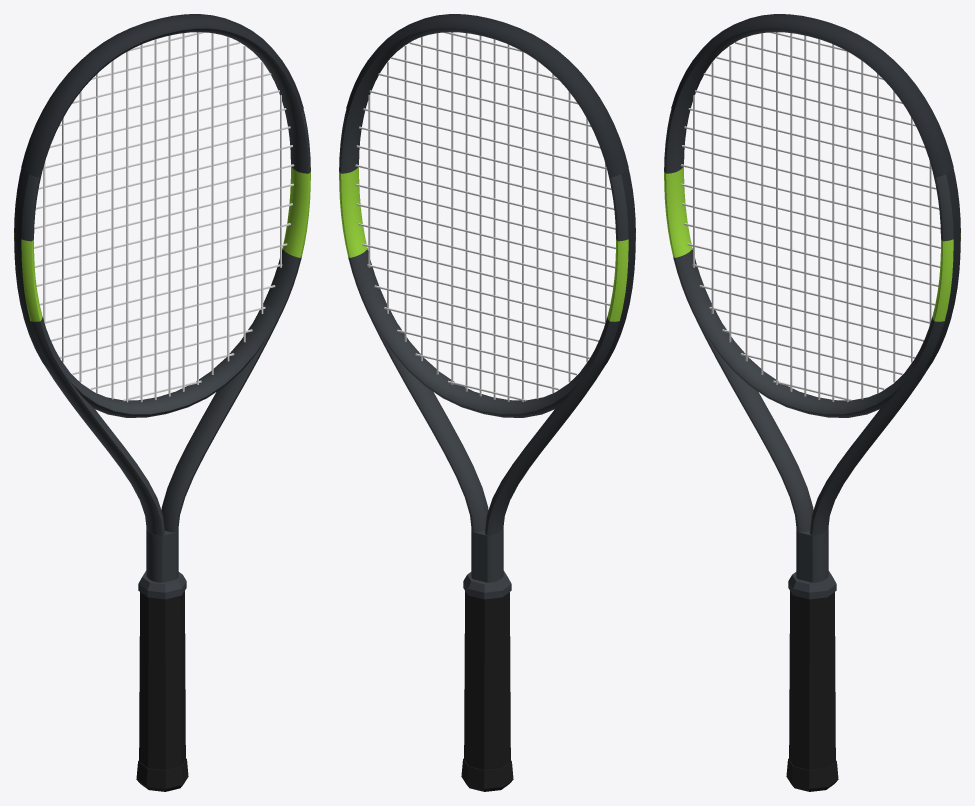
The model's file is babolat-boost-aero-2026.glb.
The picture shows the model from 3 angles, left to right: view 1: azimuth 30°, elevation 25°; view 2: azimuth 150°, elevation 25°; view 3: azimuth 330°, elevation 25°; orthographic projection.
Visible parts, largest first — view 1: frame, strings_mains, strings_crosses, grip, bumper, grommets, butt_cap, collar; view 2: frame, strings_mains, strings_crosses, grip, bumper, grommets, butt_cap, collar; view 3: frame, strings_mains, strings_crosses, grip, bumper, grommets, butt_cap, collar.
Boxes of the visible parts, left/top/right/bottom form: frame: left=14, top=28, right=310, bottom=582; strings_mains: left=43, top=32, right=281, bottom=402; strings_crosses: left=34, top=32, right=294, bottom=401; grip: left=139, top=591, right=185, bottom=770; bumper: left=21, top=14, right=303, bottom=177; grommets: left=14, top=169, right=48, bottom=367; butt_cap: left=136, top=758, right=188, bottom=791; collar: left=138, top=571, right=186, bottom=599; frame: left=339, top=28, right=635, bottom=582; strings_mains: left=368, top=32, right=606, bottom=401; strings_crosses: left=355, top=32, right=615, bottom=401; grip: left=464, top=591, right=510, bottom=770; bumper: left=346, top=14, right=628, bottom=177; grommets: left=601, top=169, right=635, bottom=367; butt_cap: left=461, top=758, right=513, bottom=791; collar: left=463, top=571, right=511, bottom=599; frame: left=664, top=28, right=960, bottom=582; strings_mains: left=693, top=32, right=931, bottom=402; strings_crosses: left=680, top=32, right=940, bottom=401; grip: left=789, top=591, right=835, bottom=770; bumper: left=671, top=14, right=953, bottom=177; grommets: left=926, top=169, right=960, bottom=367; butt_cap: left=786, top=758, right=838, bottom=791; collar: left=788, top=571, right=836, bottom=599.
Size of the model in its own units: 0.2742 by 0.6861 by 0.0396.
